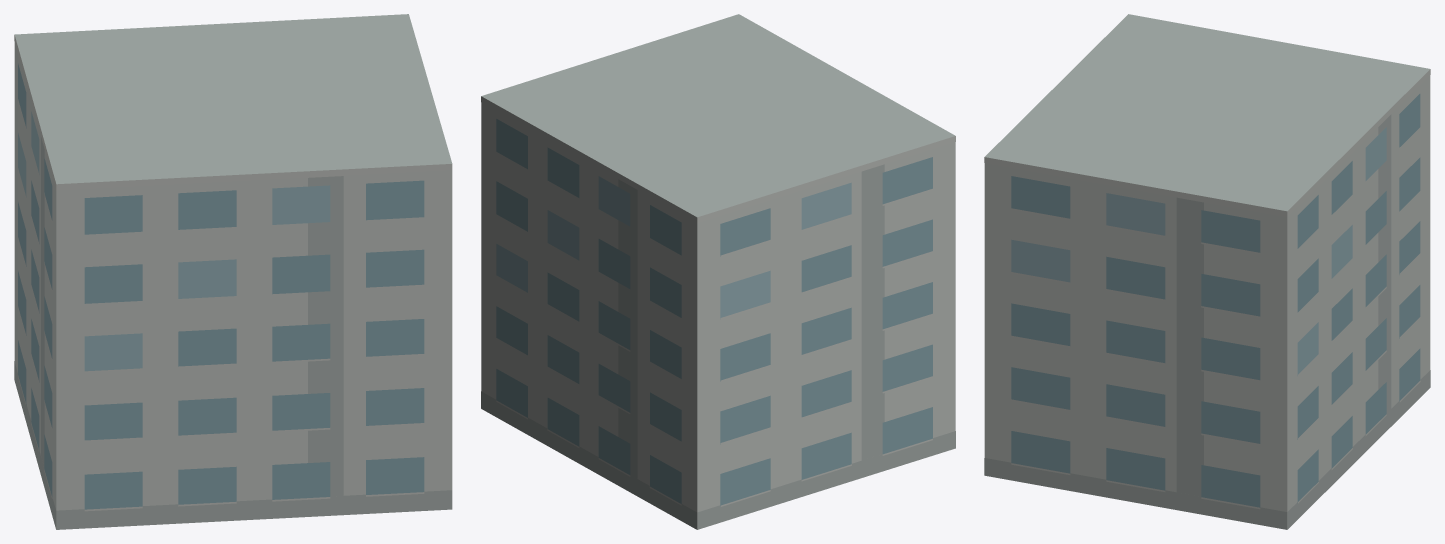
Rendered from survey-upis-32520808.glb.
3 views of the same model, side by side, from view 1: azimuth 30°, elevation 25°; view 2: azimuth 150°, elevation 25°; view 3: azimuth 270°, elevation 25° (orthographic). The views are drawn at different scales.
Parts seen in each view (by area): view 1: survey-upis-32520808.tmp; view 2: survey-upis-32520808.tmp; view 3: survey-upis-32520808.tmp.
Part boxes in pixels (<box>): survey-upis-32520808.tmp: <box>14,14,452,529</box>; survey-upis-32520808.tmp: <box>481,14,955,529</box>; survey-upis-32520808.tmp: <box>984,14,1430,529</box>.
Size of the model in its own units: 16.88 by 12.7 by 16.12.
